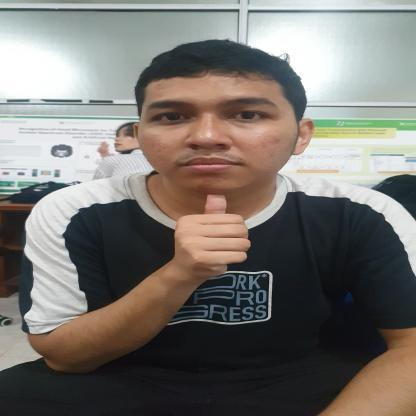Siapa: (164, 188, 254, 281)
